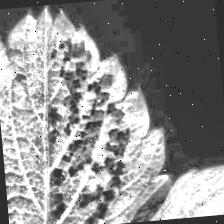Angular Leafspot: (0, 0, 177, 224), (81, 154, 224, 224)
